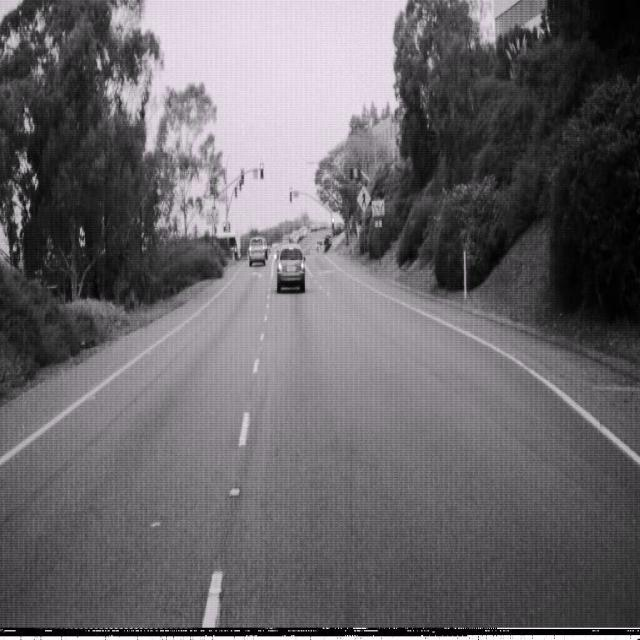pedestrianCrossing: (356, 184, 370, 212)
